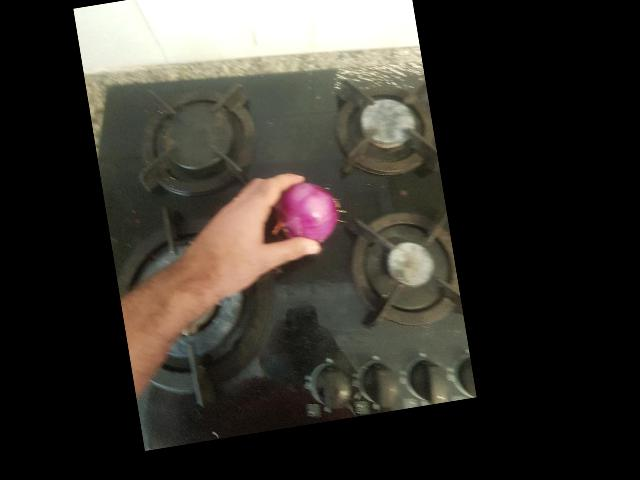onion: (279, 182, 334, 247)
